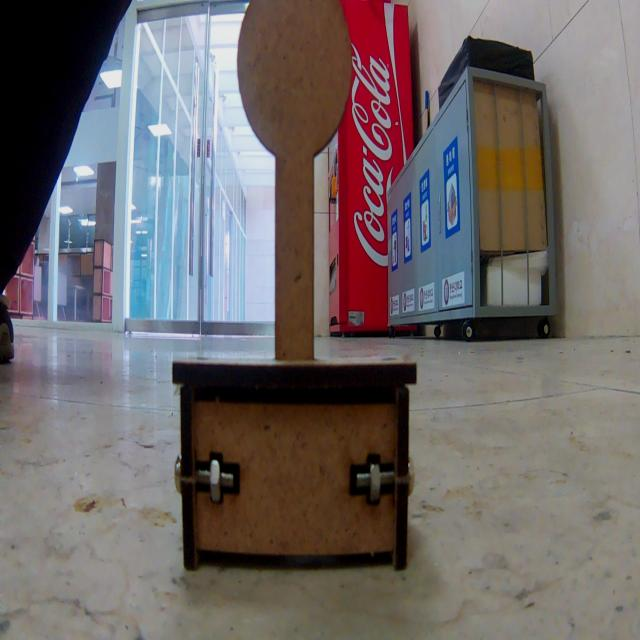target: (171, 0, 417, 573)
